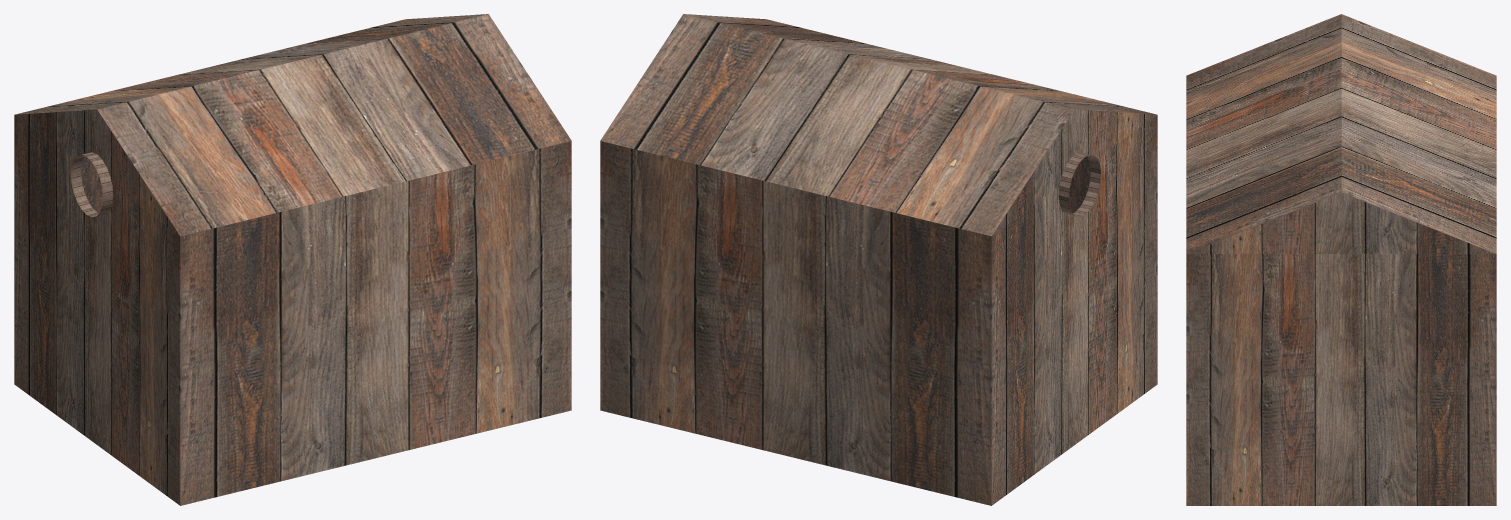
File: Barn.obj
3 renders of one model, left to right at view 1: azimuth 30°, elevation 25°; view 2: azimuth 150°, elevation 25°; view 3: azimuth 270°, elevation 25°, orthographic. The views are drawn at different scales.
Visible parts, largest first — view 1: Default_Prototype; view 2: Default_Prototype; view 3: Default_Prototype.
Part boxes in pixels (bbox=[...]): Default_Prototype: bbox=[14, 14, 571, 505]; Default_Prototype: bbox=[600, 14, 1157, 505]; Default_Prototype: bbox=[1186, 14, 1496, 505].
Bounding box in the file's own units: 7.96 × 6.35 × 5.7.
1 material, 1 textured.
